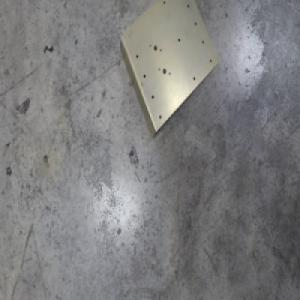MetalSheet: (117, 0, 219, 140)
